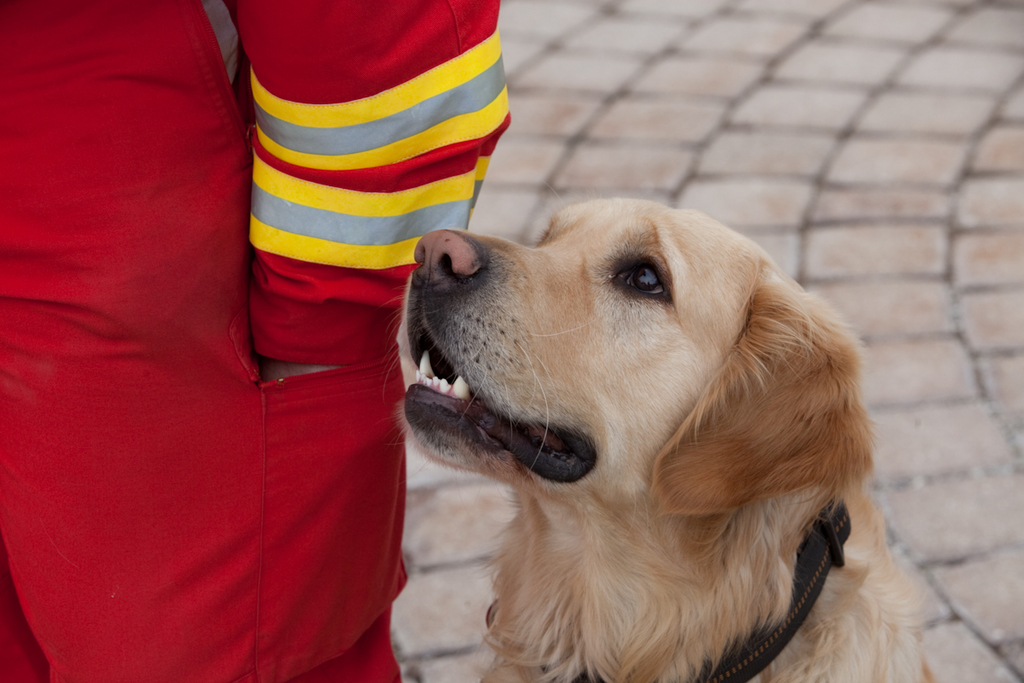Person: (0, 0, 511, 682)
